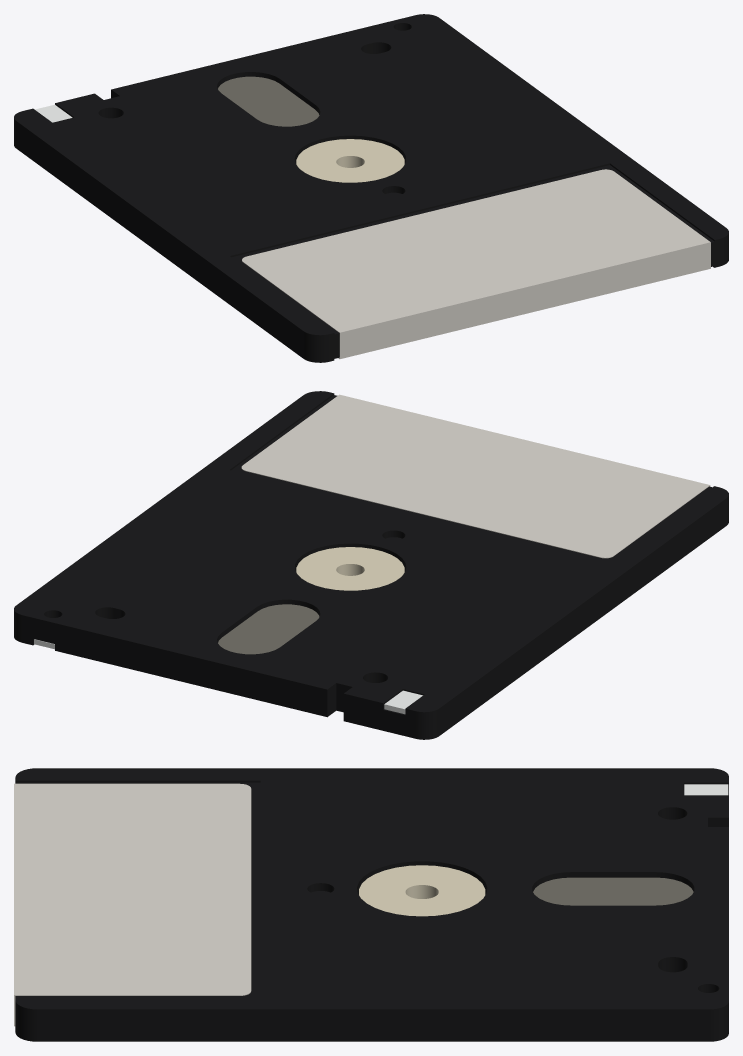
The picture shows the model from 3 angles, top to bottom: view 1: azimuth 30°, elevation 25°; view 2: azimuth 150°, elevation 25°; view 3: azimuth 270°, elevation 25°; orthographic projection. The views are drawn at different scales.
Visible parts, largest first — view 1: case, label, hub, shutter; view 2: case, label, hub, shutter, write-protect-shutters; view 3: case, label, hub, shutter, write-protect-shutters.
Part boxes in pixels (left/top/right/bottom): case: left=14, top=14, right=728, bottom=362; label: left=242, top=169, right=710, bottom=358; hub: left=296, top=139, right=404, bottom=182; shutter: left=218, top=76, right=319, bottom=126; case: left=14, top=391, right=728, bottom=739; label: left=241, top=394, right=710, bottom=558; hub: left=296, top=547, right=404, bottom=590; shutter: left=218, top=604, right=319, bottom=654; write-protect-shutters: left=34, top=639, right=422, bottom=714; case: left=15, top=768, right=728, bottom=1041; label: left=14, top=783, right=251, bottom=1026; hub: left=359, top=865, right=485, bottom=916; shutter: left=533, top=877, right=693, bottom=905; write-protect-shutters: left=684, top=784, right=728, bottom=795.
Size of the model in its own units: 0.08 by 0.005 by 0.1002.
